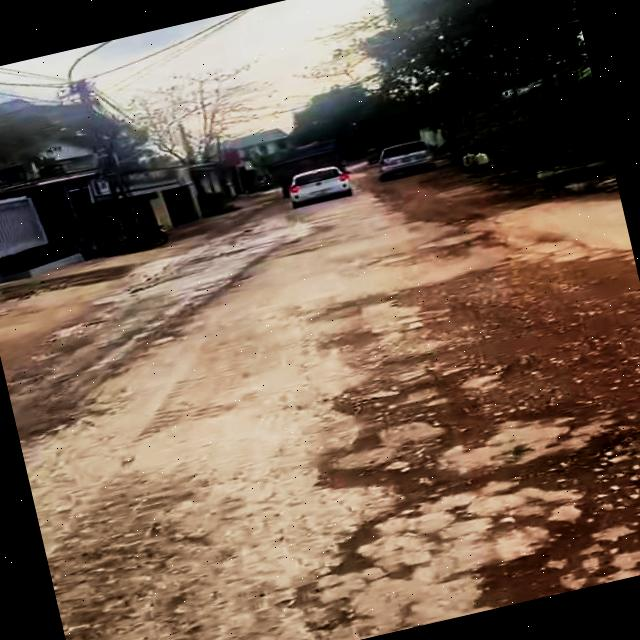pothole: (318, 400, 632, 566), (447, 484, 640, 615), (330, 363, 506, 468)
